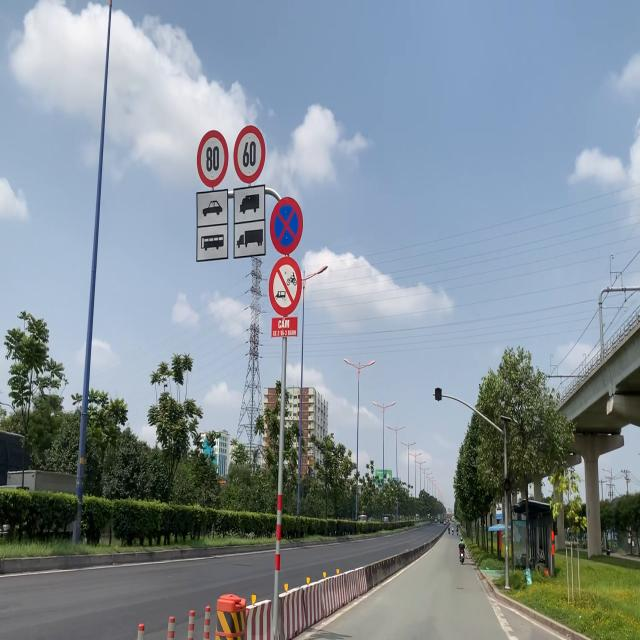Cam con lai: (268, 256, 302, 315)
Cam dung va do: (269, 196, 304, 256)
Toc do toi da: (233, 124, 266, 184), (197, 129, 230, 188)
